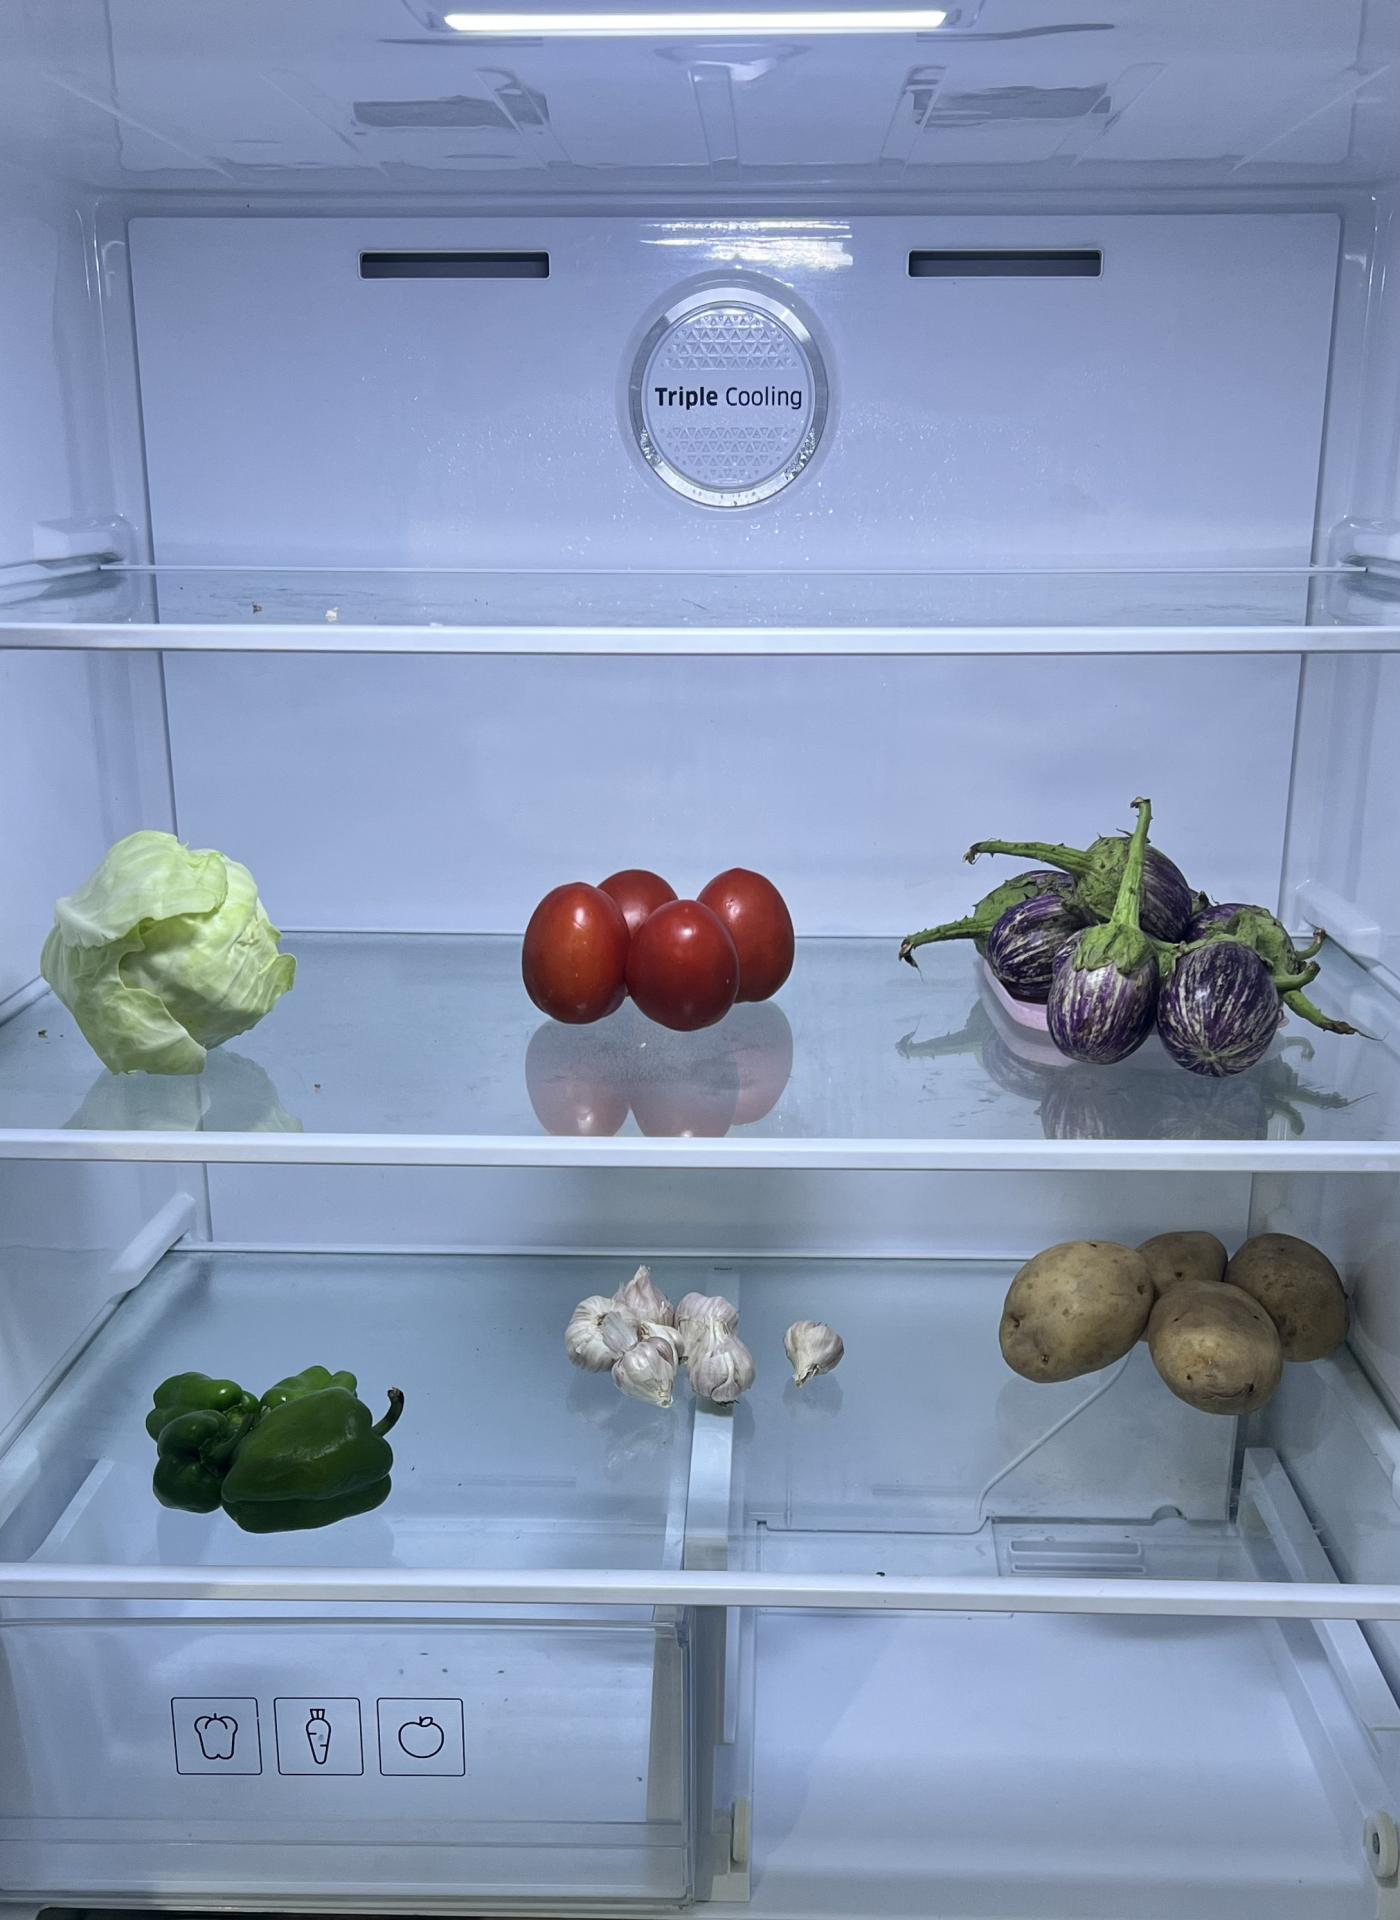brinjal: (959, 802, 1314, 1073)
cabbage: (39, 824, 295, 1082)
capsicum: (148, 1365, 414, 1543)
garlic: (571, 1257, 763, 1409), (789, 1309, 848, 1386)
potato: (991, 1221, 1357, 1404)
tomato: (516, 859, 798, 1033)
